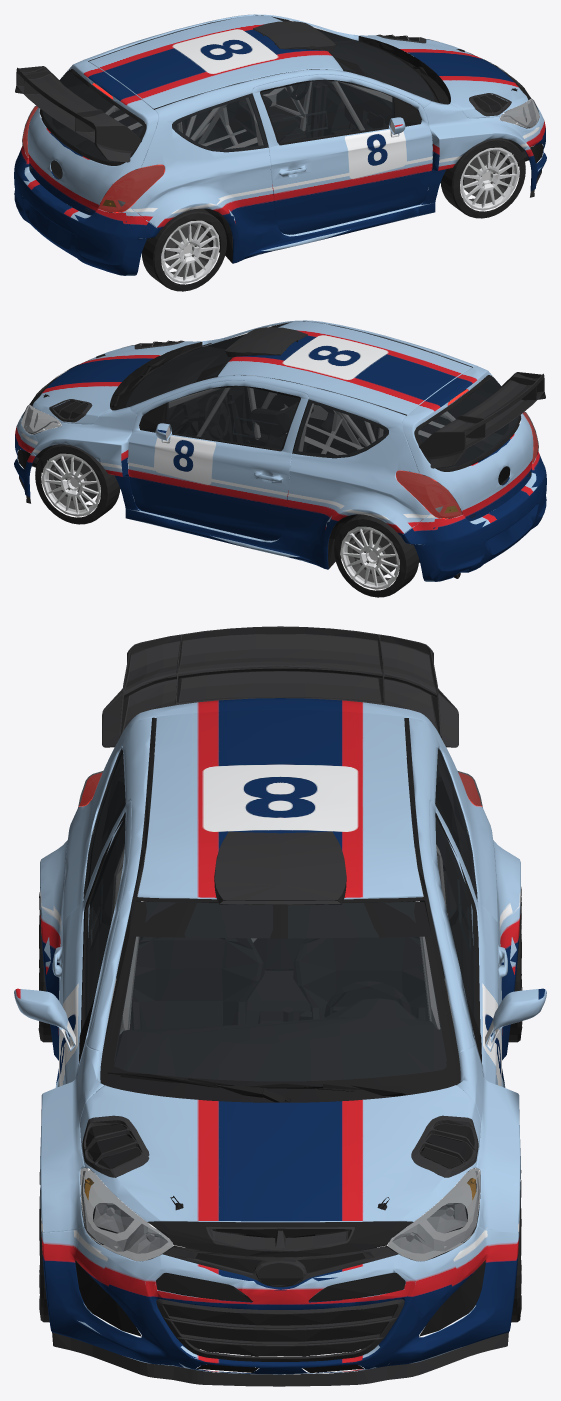
File: rally.glb
The picture shows the model from 3 angles, top to bottom: view 1: azimuth 30°, elevation 25°; view 2: azimuth 150°, elevation 25°; view 3: azimuth 270°, elevation 25°; orthographic projection. The views are drawn at different scales.
Parts seen in each view (by area): view 1: body, wheel_RR, wheel_FR; view 2: body, wheel_RL, wheel_FL; view 3: body.
Boxes of the visible parts, left/top/right/bottom form: body: left=14, top=14, right=546, bottom=275; wheel_RR: left=142, top=208, right=226, bottom=291; wheel_FR: left=440, top=138, right=525, bottom=218; body: left=14, top=320, right=546, bottom=581; wheel_RL: left=334, top=514, right=418, bottom=597; wheel_FL: left=35, top=444, right=120, bottom=524; body: left=14, top=626, right=546, bottom=1386.
Bounding box in the file's own units: 4.09 × 1.43 × 2.07.
13 materials, 1 textured.
